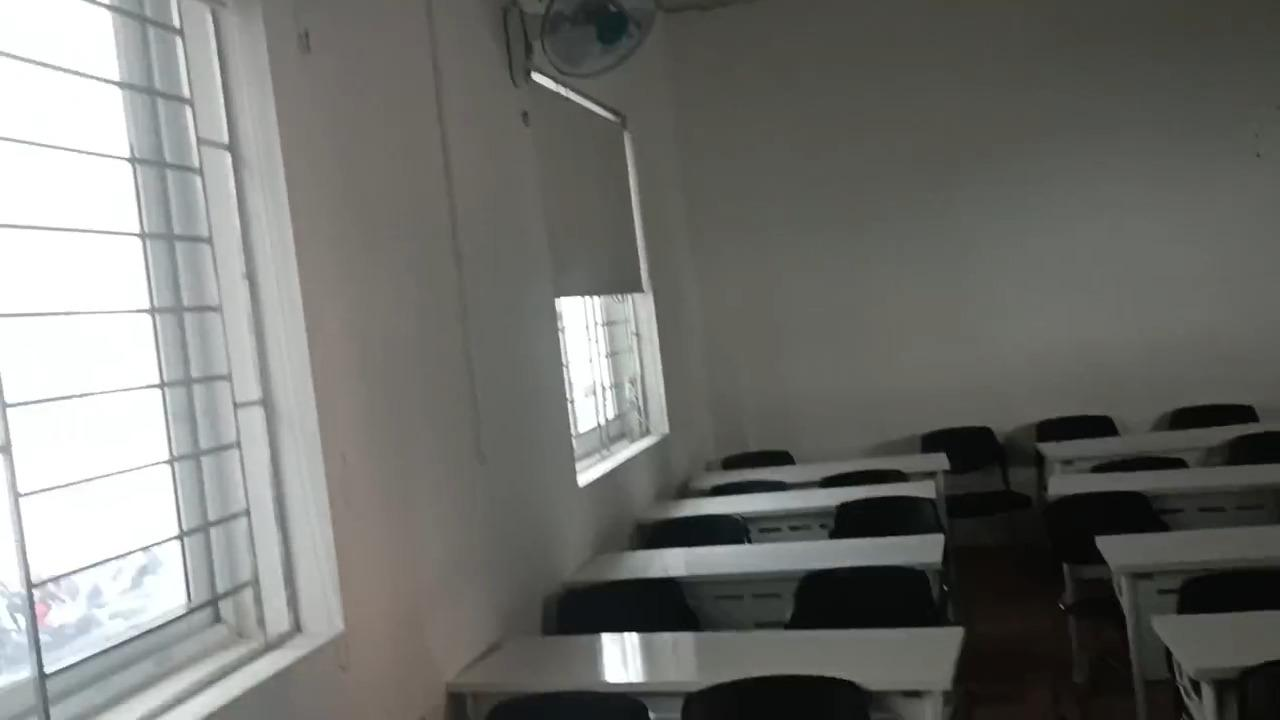chair: (1045, 489, 1165, 613), (925, 427, 1029, 540), (683, 674, 864, 719), (795, 570, 944, 623), (553, 580, 698, 631), (1169, 568, 1279, 617), (835, 494, 941, 540), (495, 690, 642, 718), (646, 514, 748, 546), (1035, 414, 1120, 444), (1177, 404, 1260, 432), (1238, 661, 1275, 719), (1232, 432, 1279, 468), (824, 470, 908, 489), (722, 450, 794, 472), (1095, 457, 1186, 470), (707, 481, 787, 495)
fan: (501, 0, 674, 85)
table: (448, 628, 961, 690), (570, 536, 946, 577), (1045, 464, 1279, 523), (1158, 609, 1279, 712), (685, 452, 953, 490), (649, 480, 936, 513), (1038, 425, 1279, 462), (1103, 527, 1279, 570)
